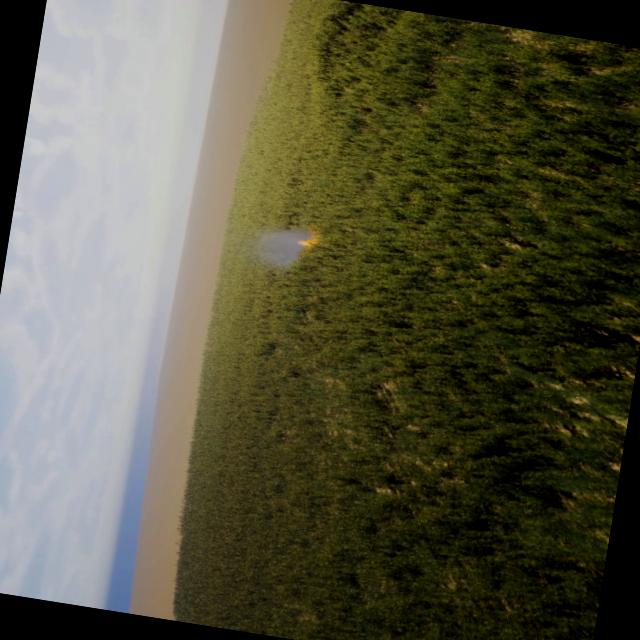fire: (294, 228, 322, 250)
smoke: (242, 216, 320, 272)
